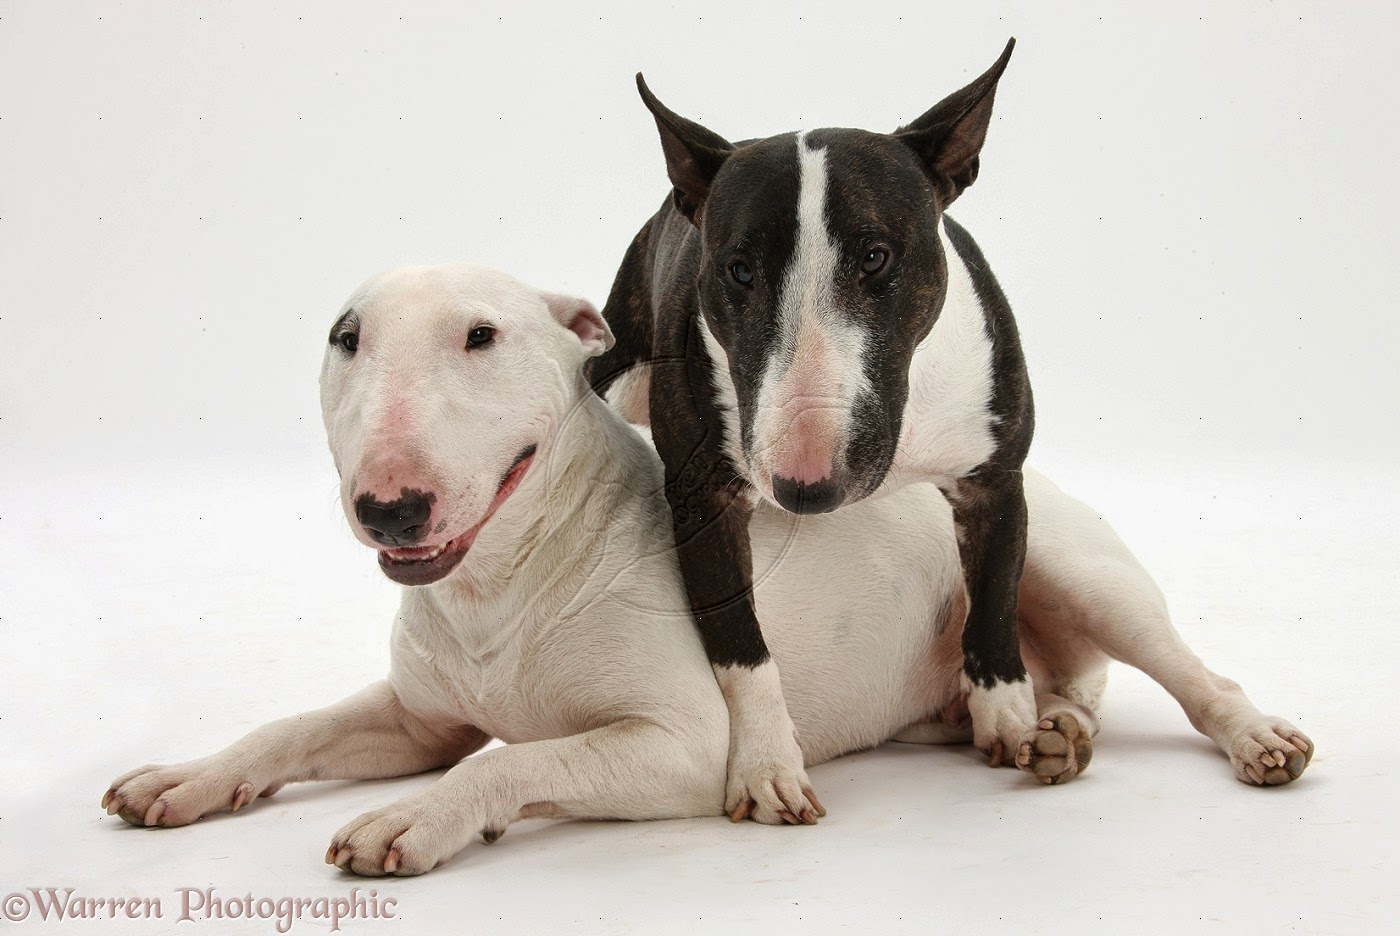bull_terrier: (101, 260, 1316, 882), (581, 33, 1040, 826)
